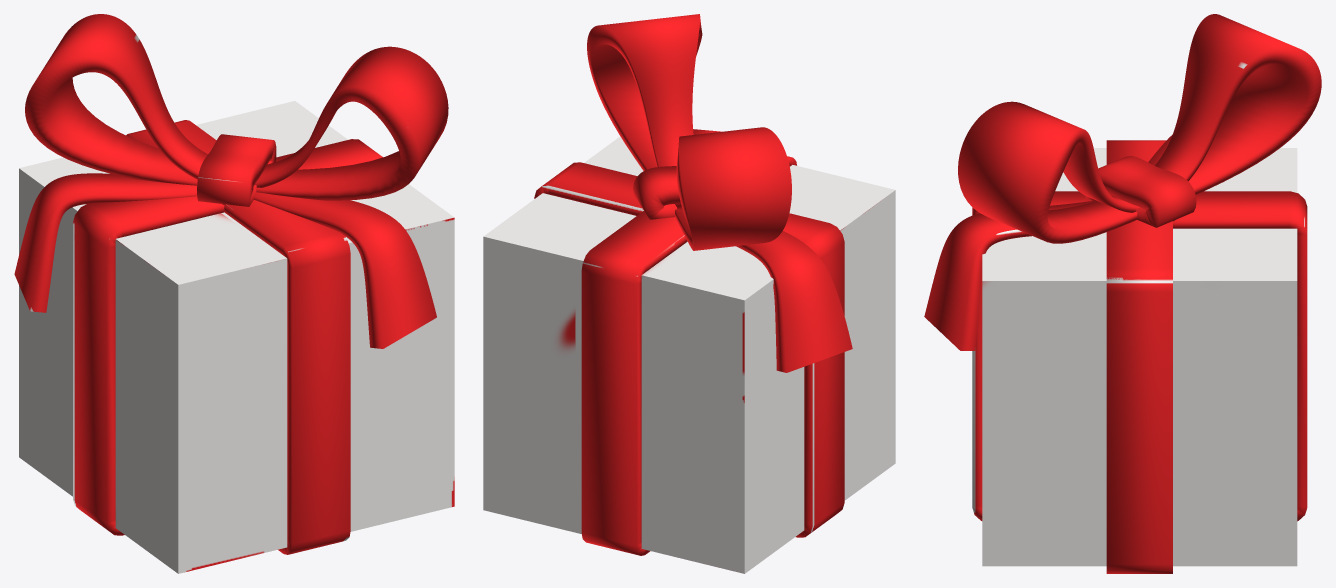
Rendered from gift.gltf.
3 renders of one model, left to right at view 1: azimuth 30°, elevation 25°; view 2: azimuth 150°, elevation 25°; view 3: azimuth 270°, elevation 25°, orthographic. The views are drawn at different scales.
Parts seen in each view (by area): view 1: NurbsPath; view 2: NurbsPath; view 3: NurbsPath.
Boxes of the visible parts, x1,y1,x2,y2 form: NurbsPath: [14, 14, 454, 573]; NurbsPath: [483, 14, 895, 573]; NurbsPath: [924, 14, 1321, 573].
Bounding box in the file's own units: 2.53 × 3.04 × 2.52.
Materials: 1 (1 with a texture image).
